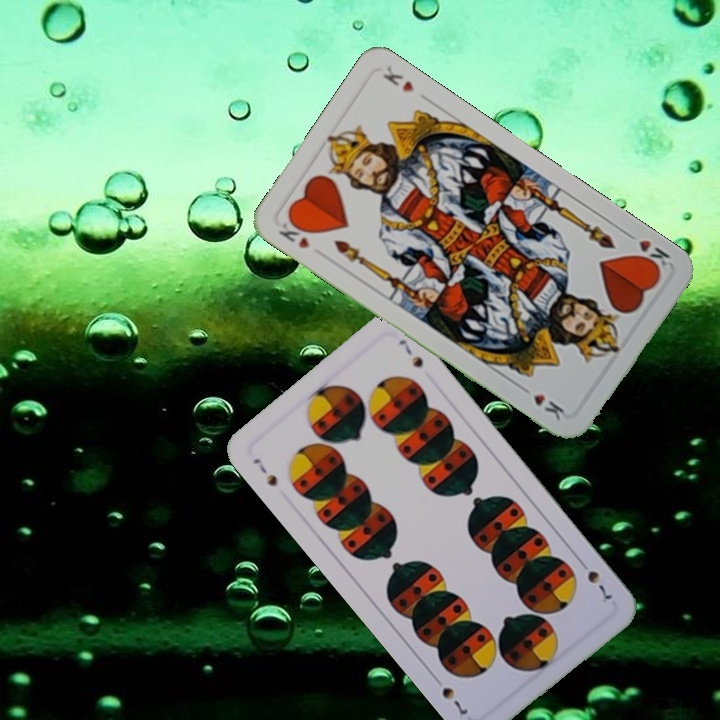HK: (621, 227, 673, 274), (274, 225, 312, 251)
S7: (574, 555, 615, 603), (248, 454, 280, 489)
